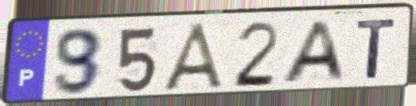2: (232, 19, 281, 89)
5: (115, 24, 161, 93)
9: (51, 26, 107, 98)
A: (159, 20, 230, 92), (277, 19, 349, 86)
T: (354, 16, 400, 81)
